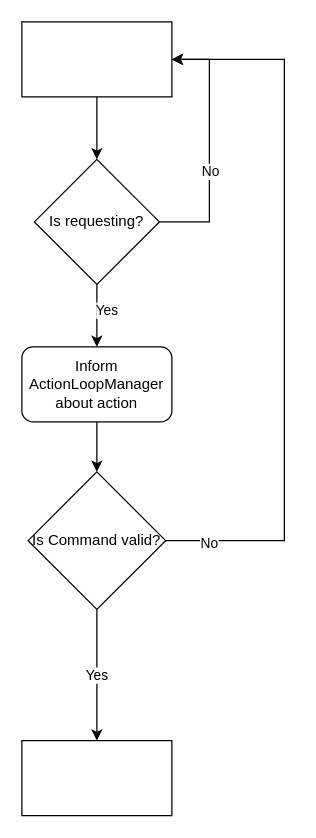
The diagram is 316 pixels wide and 838 high, and some of its shapes have lost their labels. The shapes that lost their labels are listed below. From the top down, each one's centre as x and y in pixels, then its label:
(x=96, y=59): WAIT TIME
(x=96, y=777): START COMMAND
